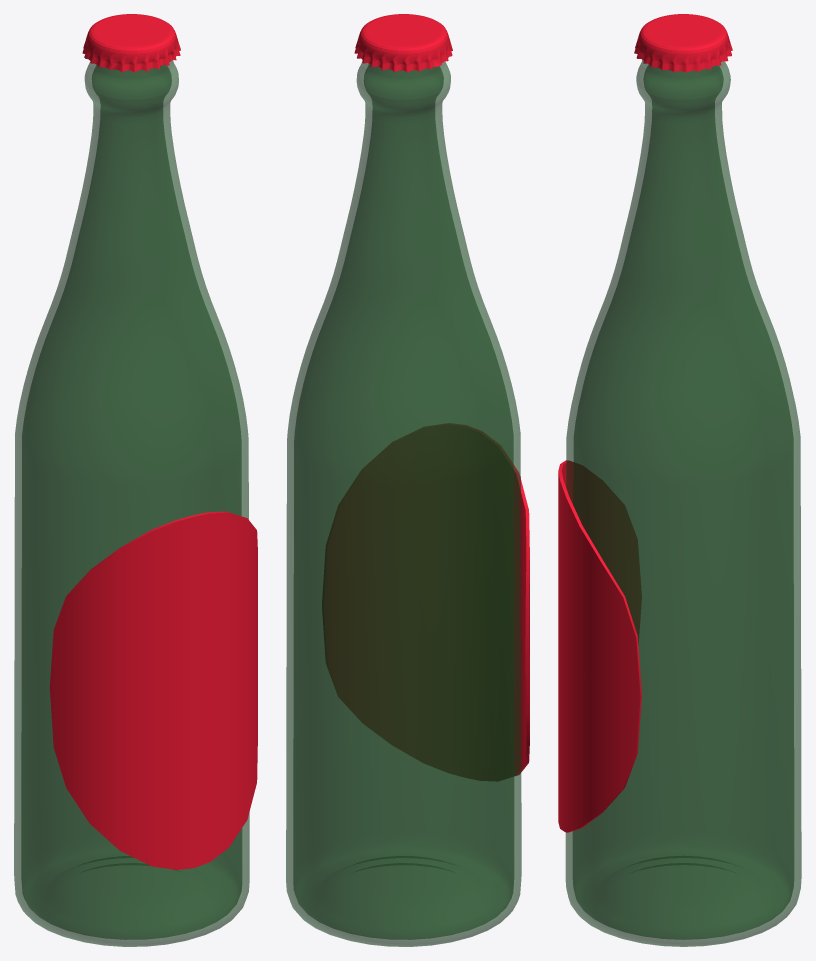
File: wine2_3.glb
3 renders of one model, left to right at view 1: azimuth 30°, elevation 25°; view 2: azimuth 150°, elevation 25°; view 3: azimuth 270°, elevation 25°, orthographic.
Parts seen in each view (by area): view 1: Wine-Glass_2, Wine-Stick_2, WineCap; view 2: Wine-Glass_2, Wine-Stick_2, WineCap; view 3: Wine-Glass_2, Wine-Stick_2, WineCap.
Part boxes in pixels (left/top/right/bottom): Wine-Glass_2: left=14, top=60, right=249, bottom=946; Wine-Stick_2: left=50, top=511, right=257, bottom=869; WineCap: left=82, top=14, right=180, bottom=72; Wine-Glass_2: left=286, top=60, right=521, bottom=946; Wine-Stick_2: left=322, top=423, right=529, bottom=780; WineCap: left=354, top=14, right=452, bottom=72; Wine-Glass_2: left=565, top=59, right=801, bottom=946; Wine-Stick_2: left=558, top=460, right=641, bottom=832; WineCap: left=634, top=14, right=732, bottom=72.
Bounding box in the file's own units: 0.0718 × 0.289 × 0.0731.
